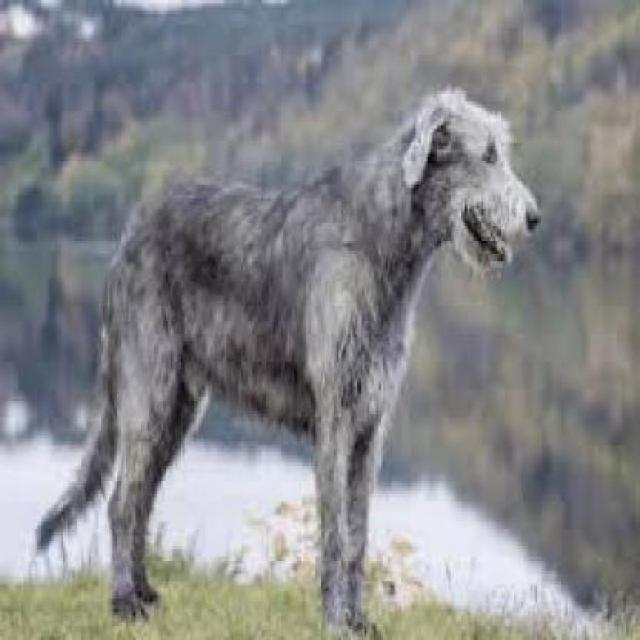animals: (53, 50, 541, 615)
